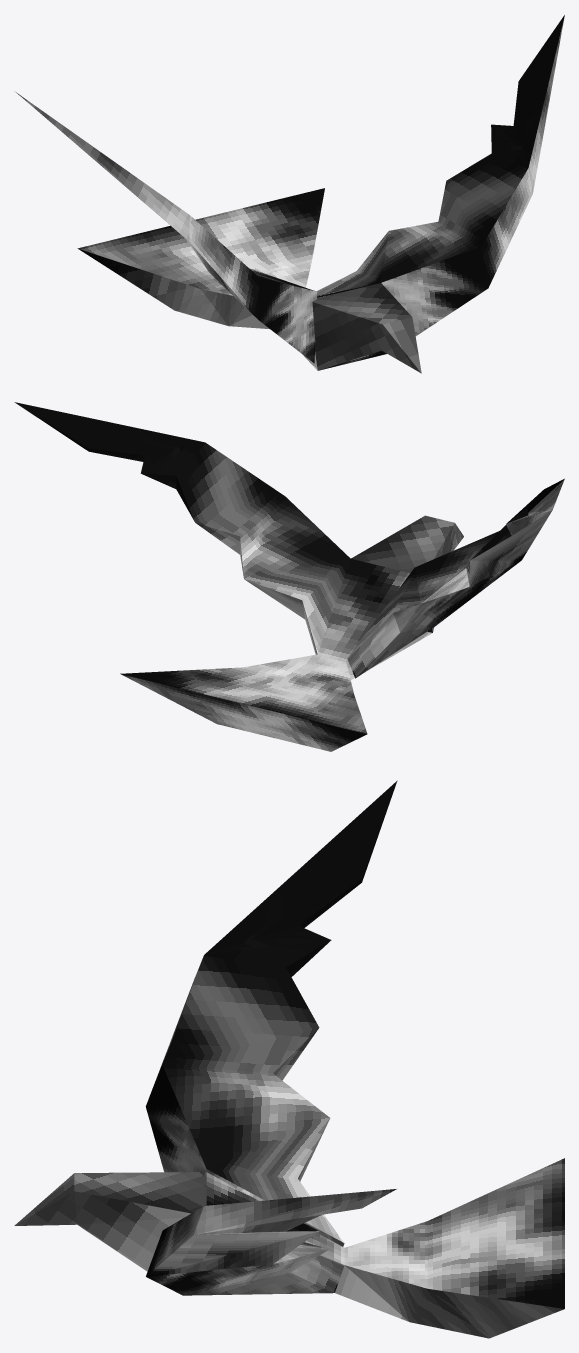
File: projphoenix.fbx
3 renders of one model, top to bottom at view 1: azimuth 30°, elevation 25°; view 2: azimuth 150°, elevation 25°; view 3: azimuth 270°, elevation 25°, orthographic. The views are drawn at different scales.
Parts seen in each view (by area): view 1: body, left, right; view 2: body, left, right; view 3: right, body, left.
Boxes of the visible parts, <box> form: body: <box>77,188,421,373</box>; left: <box>316,15,564,335</box>; right: <box>16,92,317,363</box>; body: <box>120,515,463,751</box>; left: <box>14,402,350,654</box>; right: <box>347,478,564,678</box>; right: <box>145,780,397,1246</box>; body: <box>14,1158,564,1338</box>; left: <box>146,1189,396,1295</box>.
Bounding box in the file's own units: 1.68 × 0.8586 × 1.16.
